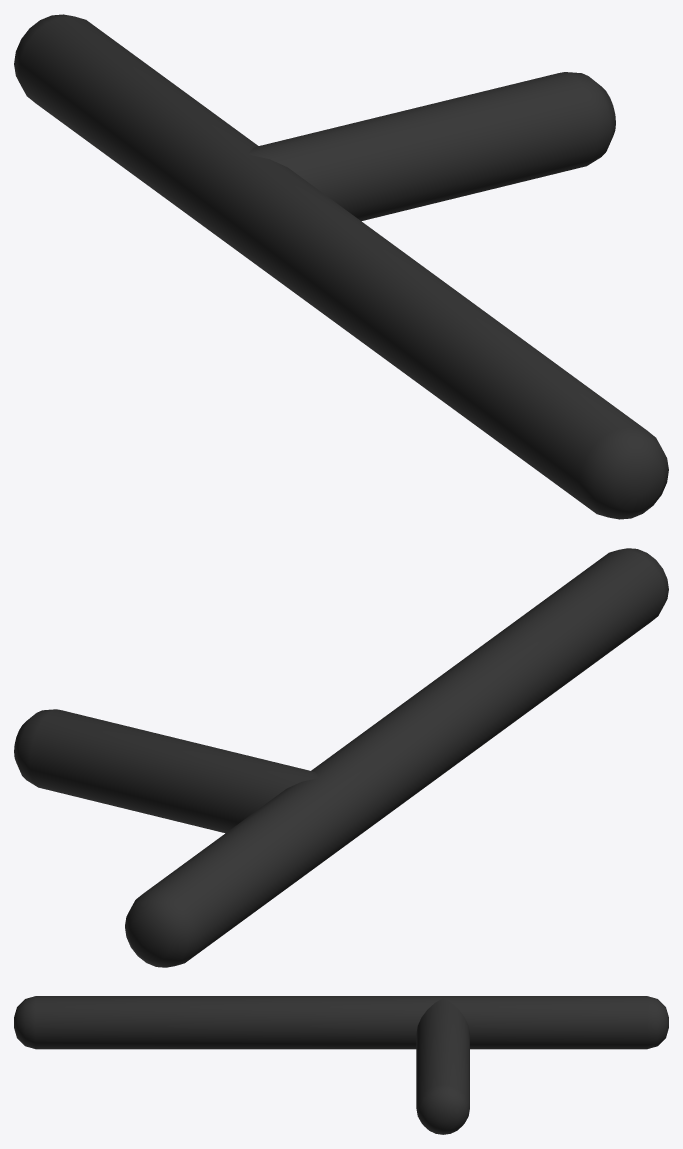
File: Baton.fbx
The picture shows the model from 3 angles, top to bottom: view 1: azimuth 30°, elevation 25°; view 2: azimuth 150°, elevation 25°; view 3: azimuth 270°, elevation 25°; orthographic projection. The views are drawn at different scales.
Visible parts, largest first — view 1: Baton; view 2: Baton; view 3: Baton.
Boxes of the visible parts, left/top/right/bottom form: Baton: left=14, top=14, right=668, bottom=519; Baton: left=14, top=548, right=668, bottom=967; Baton: left=14, top=996, right=668, bottom=1134.
Size of the model in its own units: 0.4345 by 0.0922 by 1.13.
